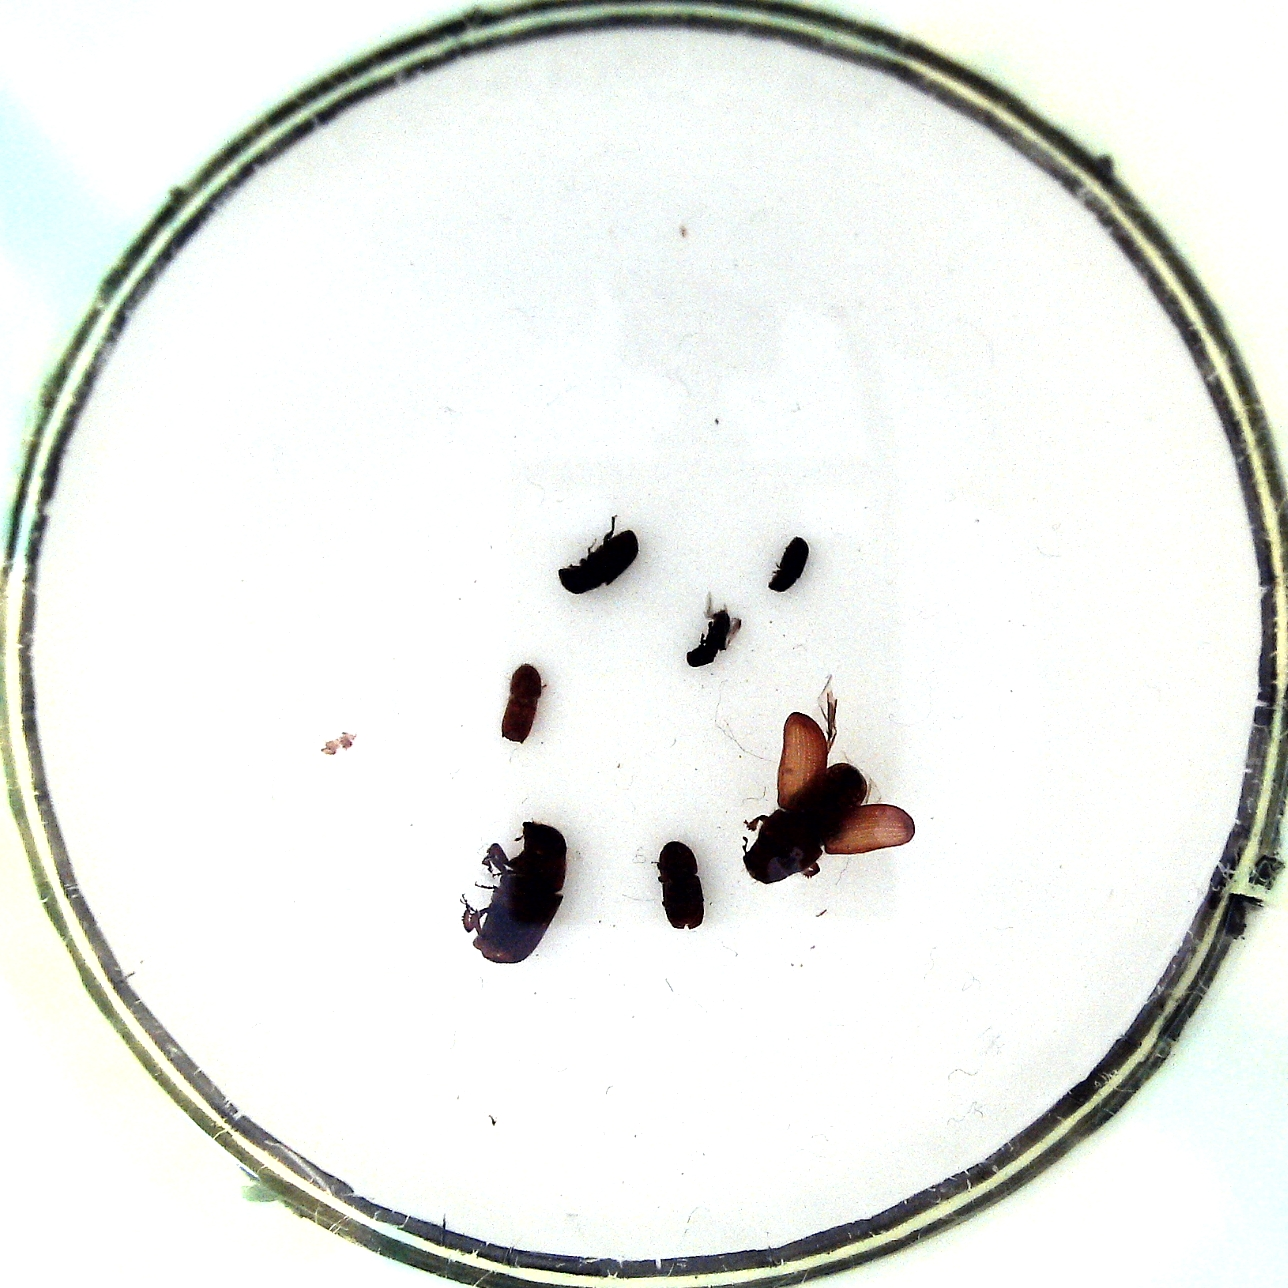Leconte: (741, 678, 915, 882), (459, 816, 576, 967)
Linnaeus: (652, 839, 707, 942)
acuminatus: (497, 665, 552, 747)
armandi: (548, 515, 639, 598)
coleoptera: (682, 594, 743, 675), (764, 528, 810, 600)
